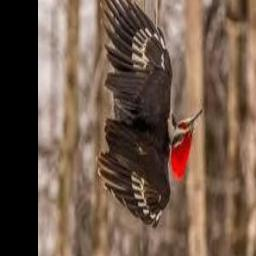Woodpecker: (97, 0, 203, 229)
